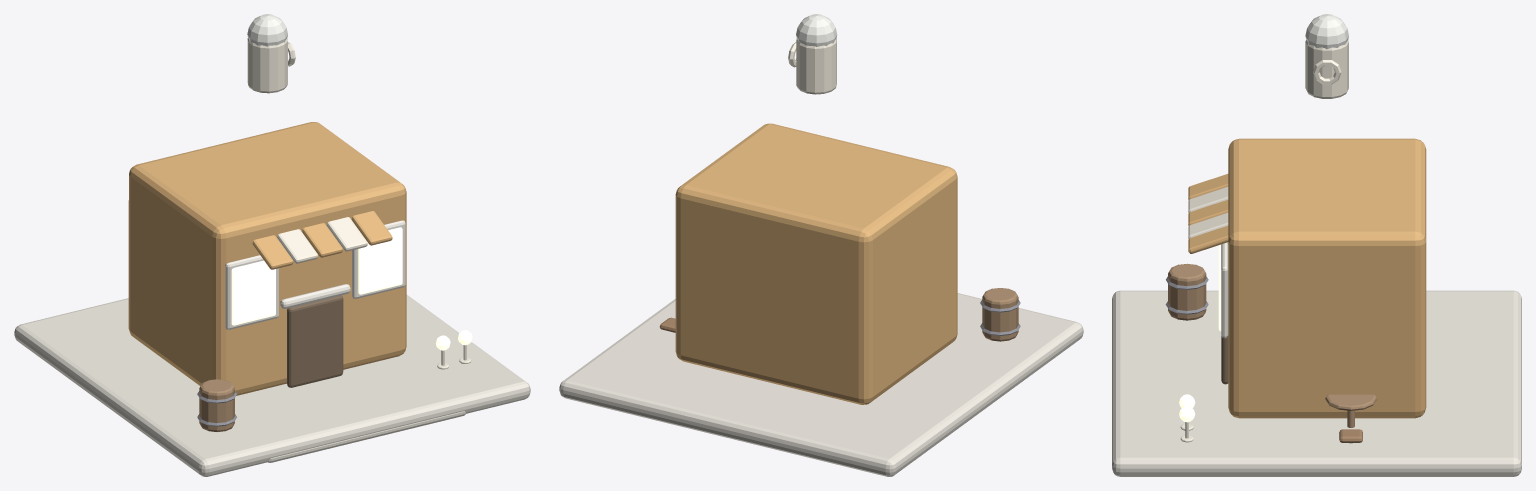
Rendered from bar.glb.
The picture shows the model from 3 angles, left to right: view 1: azimuth 30°, elevation 25°; view 2: azimuth 150°, elevation 25°; view 3: azimuth 270°, elevation 25°; orthographic projection. The views are drawn at different scales.
Visible parts, largest first — view 1: QBarAwning0, QBarGlassBowl0; view 2: QBarAwning0; view 3: QBarAwning0, QBarGlassBowl0.
Part boxes in pixels (bbox=[...]): QBarAwning0: bbox=[14, 14, 530, 476]; QBarGlassBowl0: bbox=[231, 227, 472, 350]; QBarAwning0: bbox=[559, 14, 1083, 476]; QBarAwning0: bbox=[1112, 14, 1521, 476]; QBarGlassBowl0: bbox=[1179, 244, 1221, 422].
Size of the model in its own units: 6 by 6.09 by 6.
3 materials, 3 textured.
